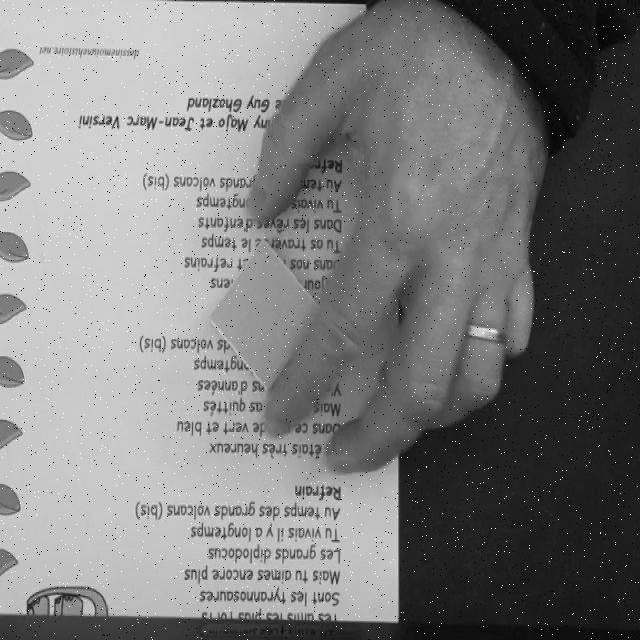square: (208, 238, 322, 392)
